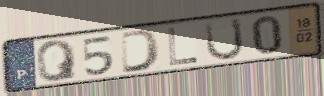0: (250, 14, 285, 56)
5: (81, 33, 116, 77)
D: (119, 28, 163, 75)
L: (166, 26, 200, 67)
Q: (34, 39, 79, 84)
U: (203, 16, 246, 63)
